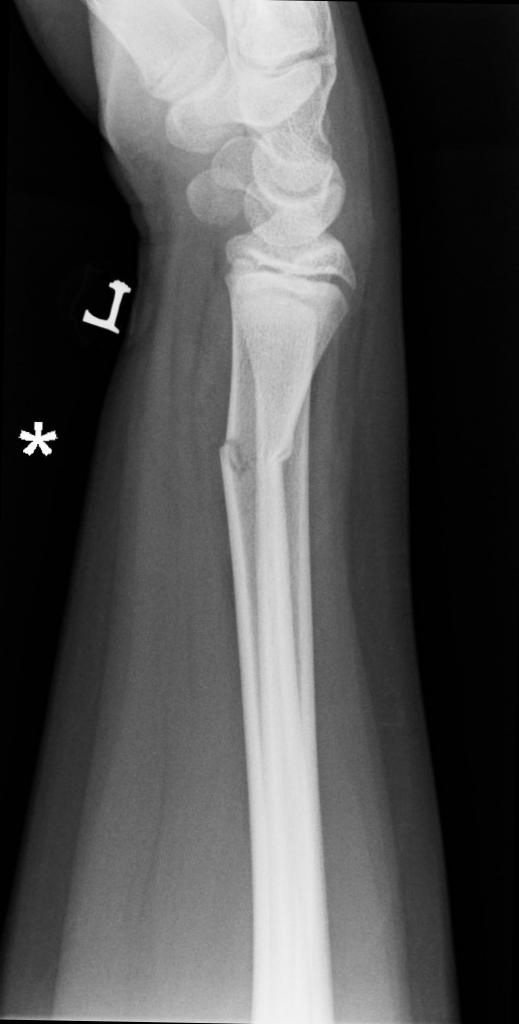angle: (216, 435, 256, 481), (254, 438, 295, 476)
